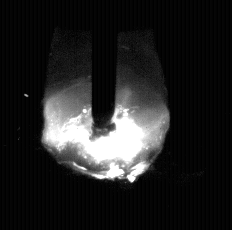arame: (91, 0, 117, 141)
poca: (42, 0, 167, 230)
